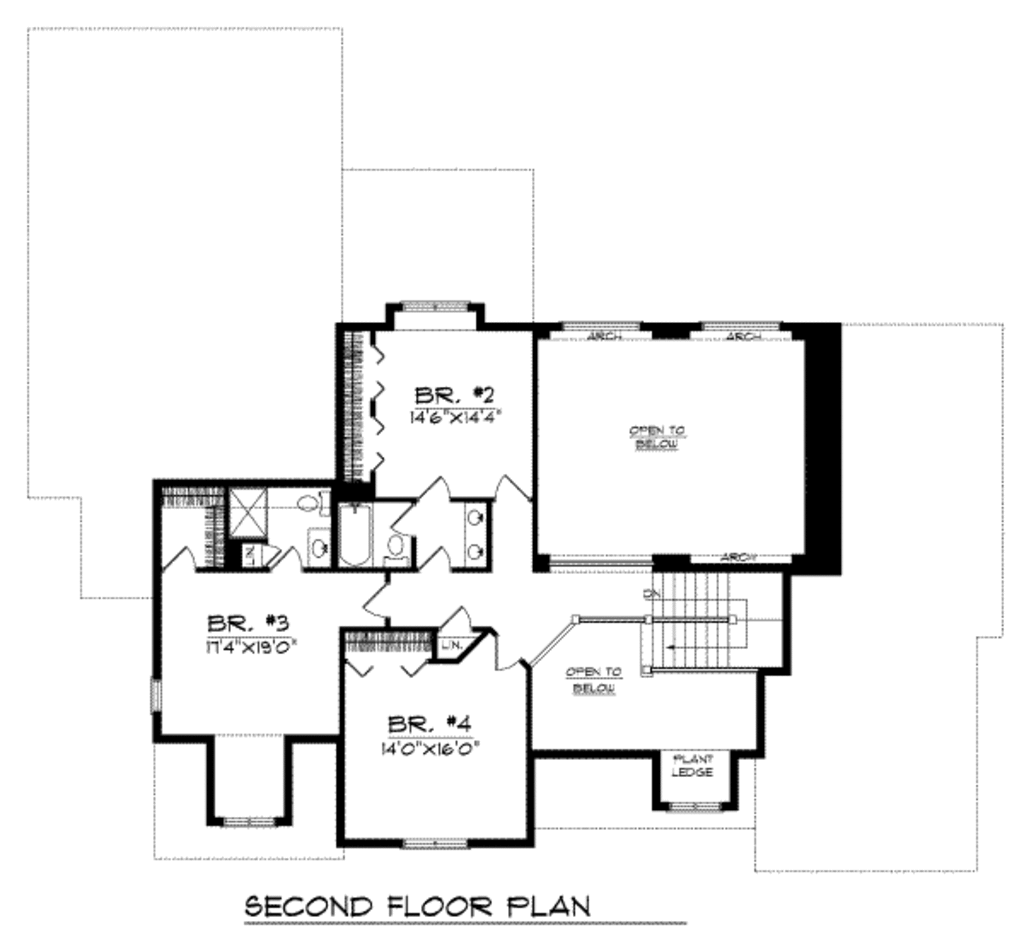door: (404, 474, 450, 506), (156, 548, 193, 581), (359, 587, 391, 620), (491, 475, 528, 501)
large_sink: (373, 528, 411, 570)
stairs: (633, 568, 794, 674)
tub: (337, 500, 374, 571)
windows: (694, 316, 784, 346), (396, 292, 471, 319), (550, 318, 642, 340), (405, 829, 474, 856), (214, 812, 281, 832), (663, 799, 723, 818)
